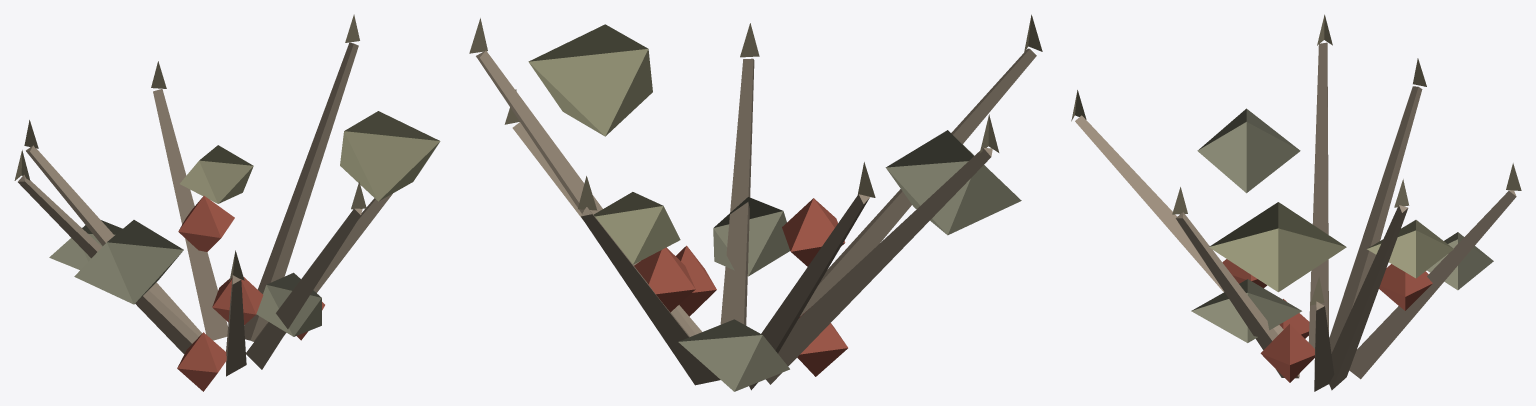
Rendered from shrub.temp.bramble__winter.glb.
The picture shows the model from 3 angles, left to right: view 1: azimuth 30°, elevation 25°; view 2: azimuth 150°, elevation 25°; view 3: azimuth 270°, elevation 25°; orthographic projection. The views are drawn at different scales.
Visible parts, largest first — view 1: shrub.temp.bramble__winter; view 2: shrub.temp.bramble__winter; view 3: shrub.temp.bramble__winter.
Boxes of the visible parts, bbox=[...] form: shrub.temp.bramble__winter: bbox=[14, 14, 440, 391]; shrub.temp.bramble__winter: bbox=[469, 14, 1042, 391]; shrub.temp.bramble__winter: bbox=[1071, 14, 1521, 391].
Size of the model in its own units: 2.59 by 1.74 by 2.52.
